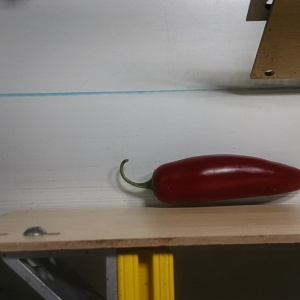Cut Point: (140, 160, 177, 207)
